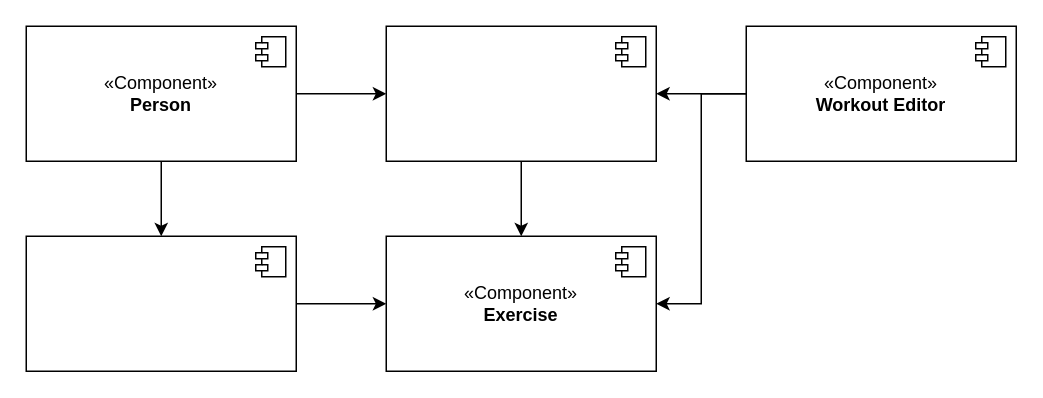
Some shapes in this 1043 by 398 pixel diagram are drawn without their labels. Each missing label, with the centre of its shape:
"«Component» History" belongs at pixel 160 303.
"«Component» Workout Program" belongs at pixel 520 93.
